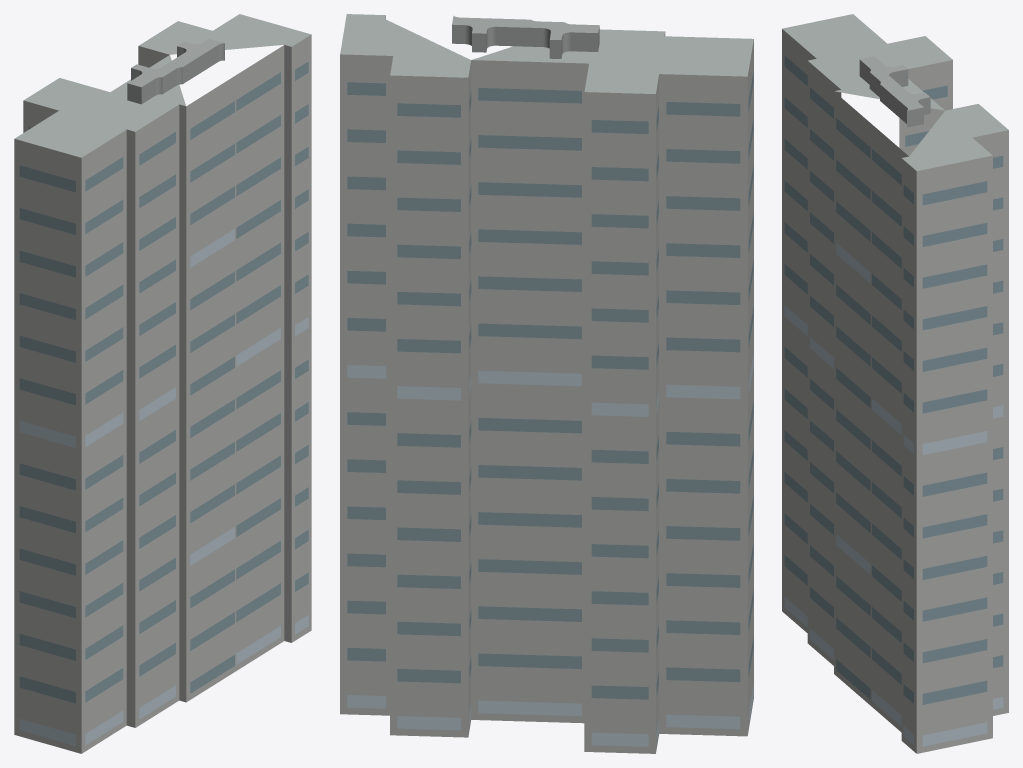
Rendered from fallback-raemian-la-classy-completion-107.glb.
3 renders of one model, left to right at view 1: azimuth 30°, elevation 25°; view 2: azimuth 150°, elevation 25°; view 3: azimuth 270°, elevation 25°, orthographic. The views are drawn at different scales.
Parts seen in each view (by area): view 1: fallback-raemian-la-classy-completion-107; view 2: fallback-raemian-la-classy-completion-107; view 3: fallback-raemian-la-classy-completion-107.
Part boxes in pixels (box(x1,y1,x2,y2)): fallback-raemian-la-classy-completion-107: box(14, 14, 311, 753); fallback-raemian-la-classy-completion-107: box(340, 14, 753, 753); fallback-raemian-la-classy-completion-107: box(782, 14, 1008, 753).
Size of the model in its own units: 48.39 by 86 by 29.5.
